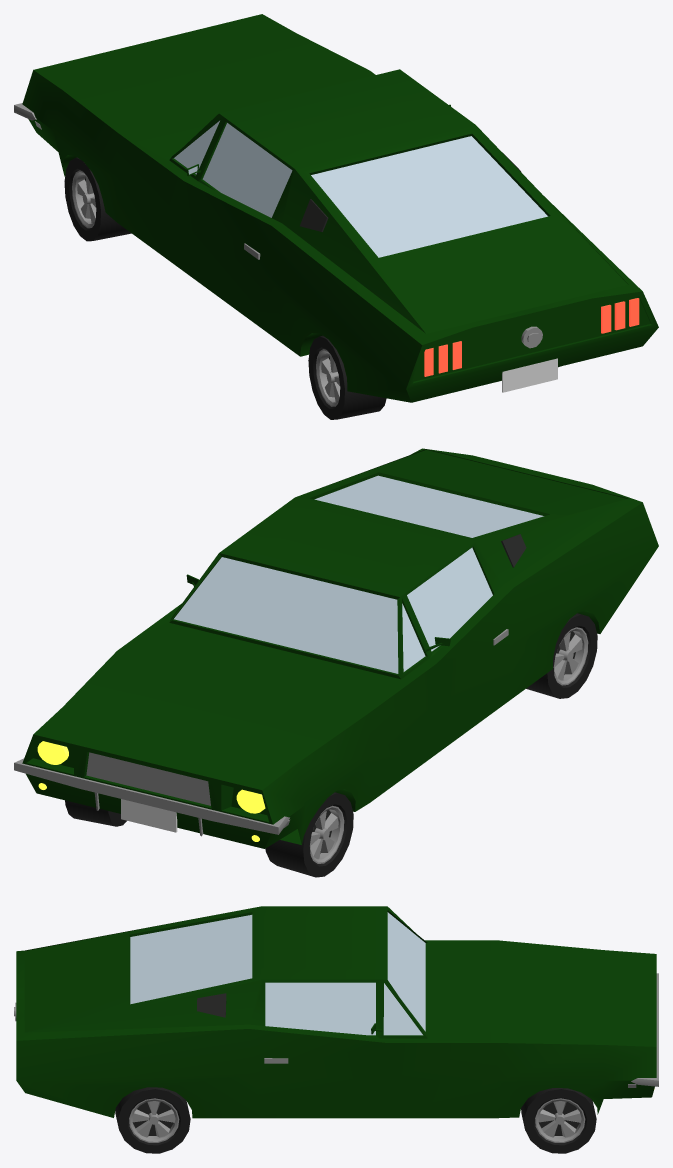
File: Mustang.fbx
3 renders of one model, top to bottom at view 1: azimuth 30°, elevation 25°; view 2: azimuth 150°, elevation 25°; view 3: azimuth 270°, elevation 25°, orthographic. The views are drawn at different scales.
Parts seen in each view (by area): view 1: Ford Mustang; view 2: Ford Mustang; view 3: Ford Mustang.
Boxes of the visible parts, x1,y1,x2,y2 form: Ford Mustang: [14, 14, 658, 419]; Ford Mustang: [14, 448, 658, 877]; Ford Mustang: [14, 906, 658, 1153].
Bounding box in the file's own units: 302 × 210 × 765.
